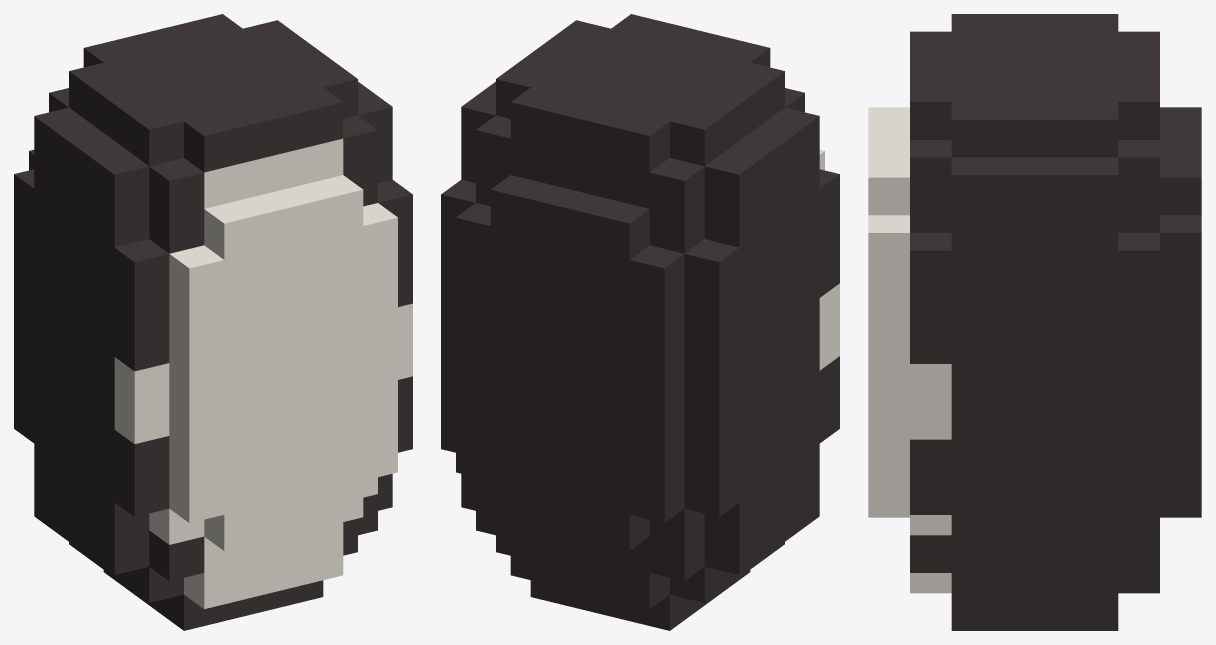
Rendered from penguin__body.obj.
3 views of the same model, side by side, from view 1: azimuth 30°, elevation 25°; view 2: azimuth 150°, elevation 25°; view 3: azimuth 270°, elevation 25° (orthographic). The views are drawn at different scales.
Parts seen in each view (by area): view 1: penguin__body; view 2: penguin__body; view 3: penguin__body.
Boxes of the visible parts, box(x1,y1,x2,y2) form: penguin__body: box(14, 14, 412, 630); penguin__body: box(441, 14, 839, 630); penguin__body: box(868, 14, 1201, 630).
Size of the model in its own units: 0.8 by 1.4 by 0.8.
Materials: 1 (1 with a texture image).
